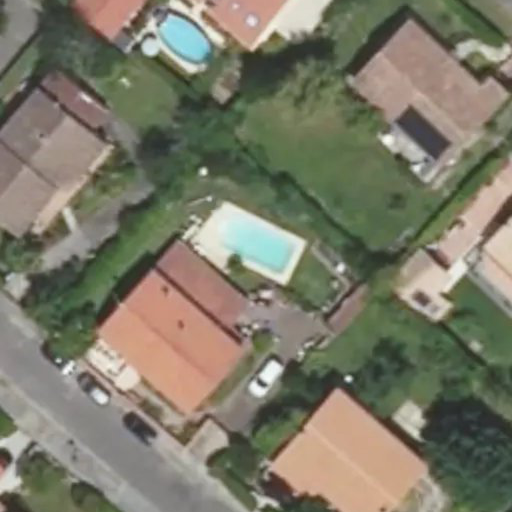pool: (210, 238, 297, 242)
